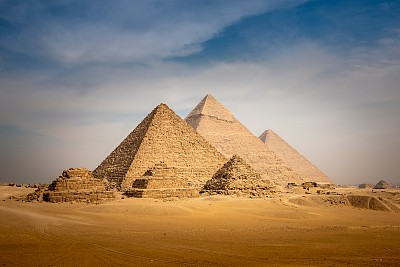Pyramid: (93, 103, 229, 194), (185, 93, 307, 186), (258, 129, 332, 185), (200, 156, 279, 197), (124, 160, 202, 198), (41, 168, 118, 204)
